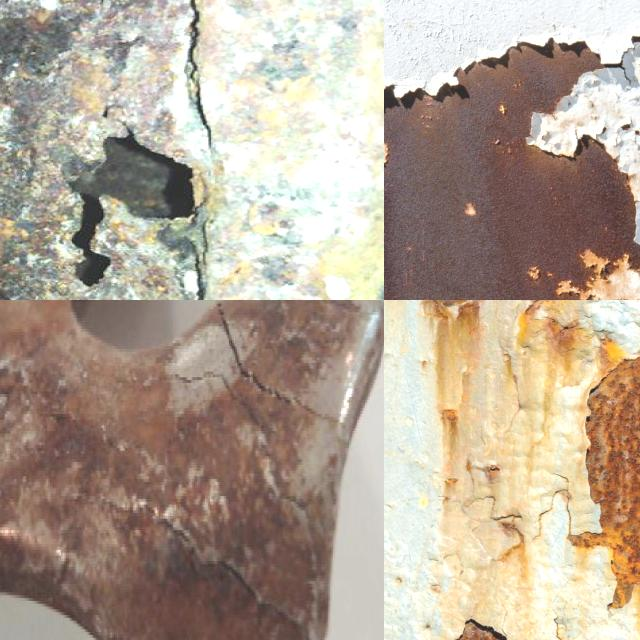Crack: (108, 483, 330, 640), (167, 300, 356, 434), (188, 0, 205, 86), (192, 204, 204, 300), (191, 87, 210, 147)
Pitting Corrosion: (571, 357, 640, 608), (433, 300, 474, 307)
Uniform Corrosion: (384, 41, 640, 300)
